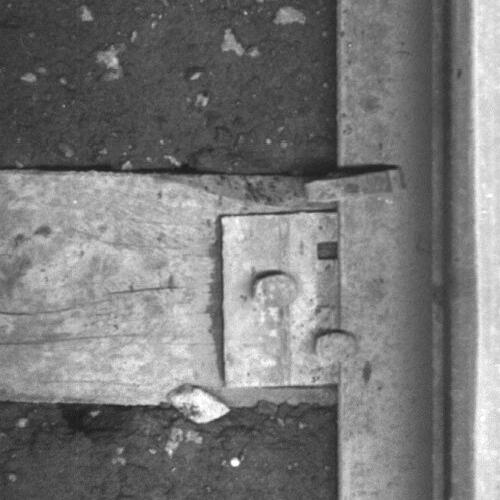crutch: (304, 165, 407, 205)
do: (219, 212, 360, 387)
hole_do: (309, 233, 350, 267)
rail: (450, 1, 500, 500)
tie_wood: (1, 172, 333, 393)
wood_crack: (1, 282, 191, 351)
